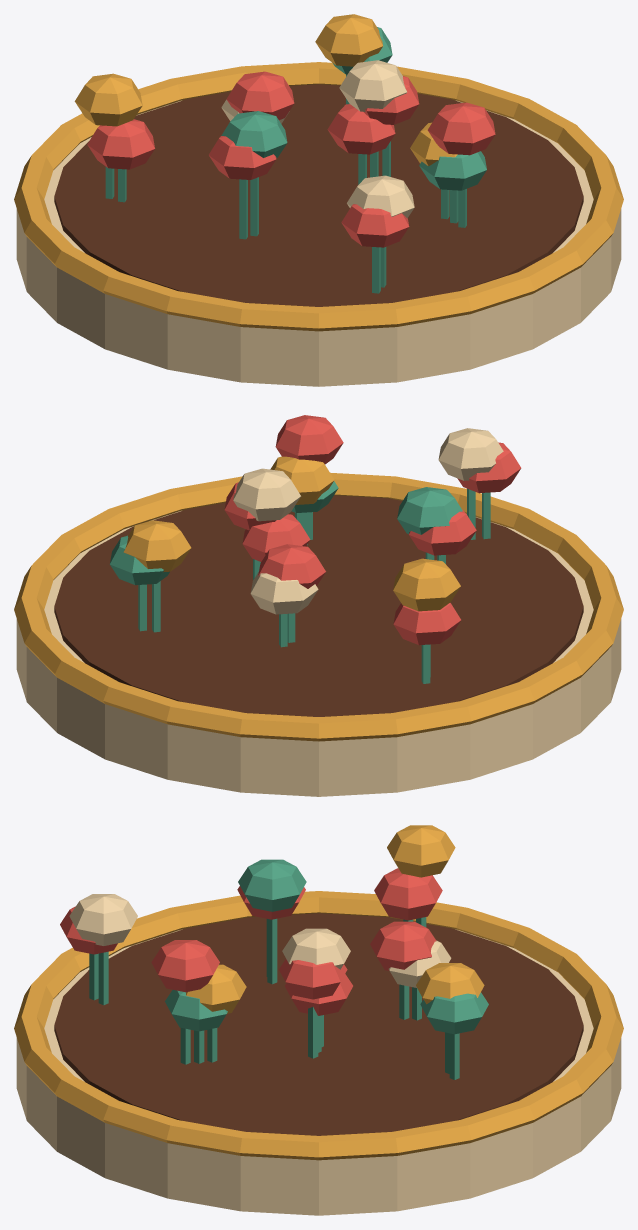
The model's file is ParkParkDecorFlowers.obj.
3 views of the same model, one above another, from view 1: azimuth 30°, elevation 25°; view 2: azimuth 150°, elevation 25°; view 3: azimuth 270°, elevation 25° (orthographic).
Parts seen in each view (by area): view 1: ParkParkDecorFlowers; view 2: ParkParkDecorFlowers; view 3: ParkParkDecorFlowers.
Part boxes in pixels (bbox=[...]): ParkParkDecorFlowers: bbox=[14, 14, 623, 386]; ParkParkDecorFlowers: bbox=[14, 415, 623, 796]; ParkParkDecorFlowers: bbox=[14, 825, 623, 1215].
Size of the model in its own units: 4.84 by 1.6 by 4.84.
